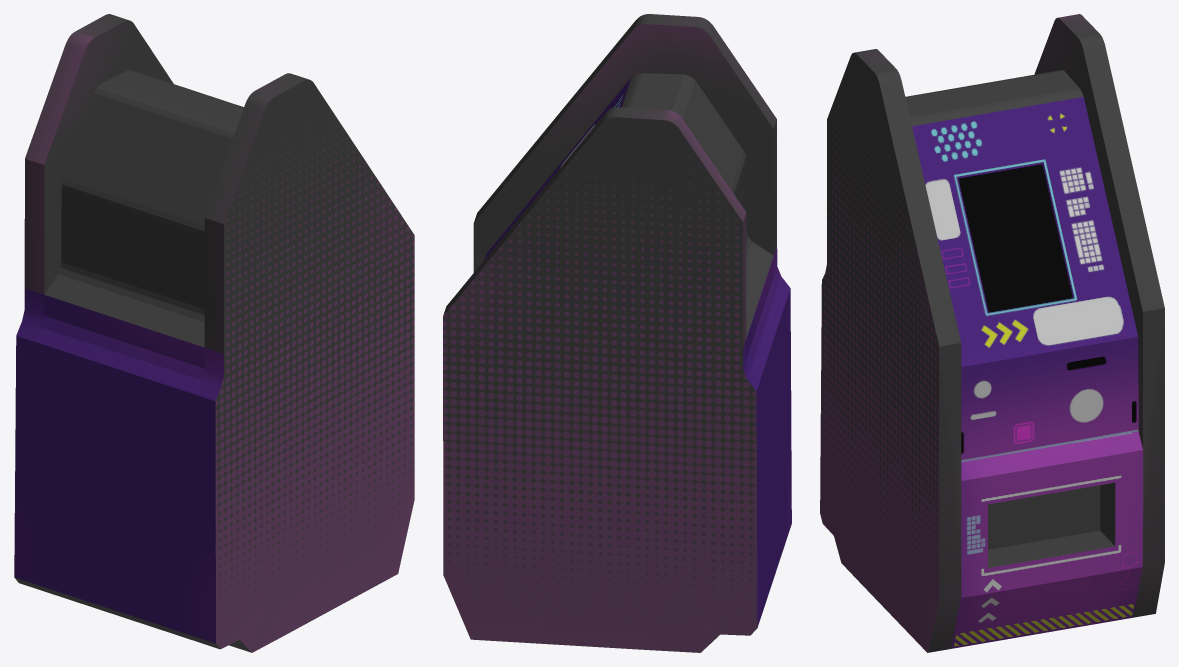
The model's file is CandyMachinePreview_High.glb.
The picture shows the model from 3 angles, left to right: view 1: azimuth 30°, elevation 25°; view 2: azimuth 150°, elevation 25°; view 3: azimuth 270°, elevation 25°; orthographic projection. The views are drawn at different scales.
Visible parts, largest first — view 1: Candymachine; view 2: Candymachine; view 3: Candymachine.
Part boxes in pixels (x1,y1,x2,y2): Candymachine: [14, 14, 414, 652]; Candymachine: [443, 14, 791, 652]; Candymachine: [820, 14, 1164, 652].
Bounding box in the file's own units: 64.32 × 97.1 × 57.98.
Materials: 1 (1 with a texture image).
